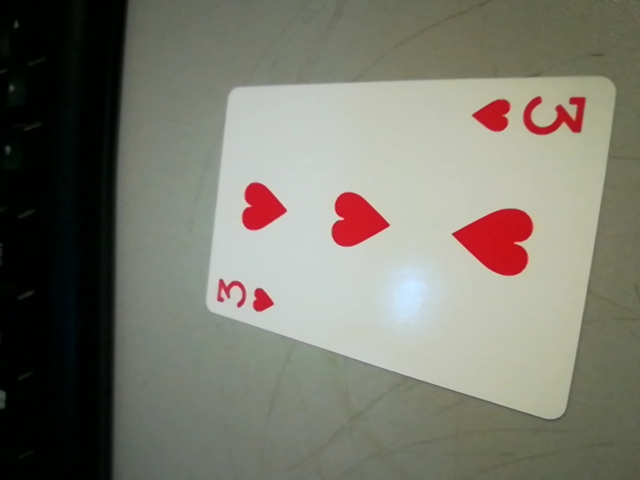hx 3: (472, 87, 598, 145)
